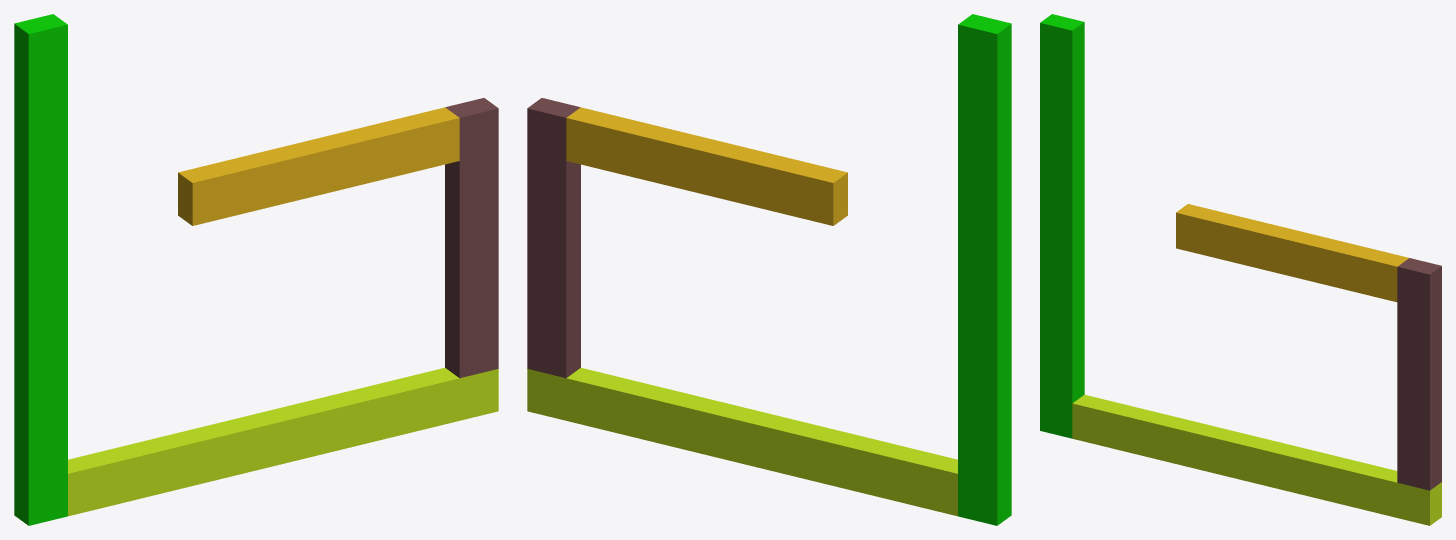
Rendered from tinker.obj.
The picture shows the model from 3 angles, left to right: view 1: azimuth 30°, elevation 25°; view 2: azimuth 150°, elevation 25°; view 3: azimuth 330°, elevation 25°; orthographic projection. The views are drawn at different scales.
Visible parts, largest first — view 1: group_0_448256, group_0_12904733, group_0_15317533, group_0_7752783; view 2: group_0_448256, group_0_12904733, group_0_15317533, group_0_7752783; view 3: group_0_448256, group_0_12904733, group_0_15317533, group_0_7752783.
Boxes of the visible parts, box(x1,y1,x2,y2) form: group_0_448256: box(14, 14, 67, 525); group_0_12904733: box(68, 368, 498, 516); group_0_15317533: box(178, 107, 459, 225); group_0_7752783: box(445, 98, 498, 378); group_0_448256: box(958, 14, 1011, 525); group_0_12904733: box(527, 368, 957, 516); group_0_15317533: box(566, 107, 847, 225); group_0_7752783: box(527, 98, 580, 378); group_0_448256: box(1040, 14, 1084, 438); group_0_12904733: box(1072, 394, 1441, 525); group_0_15317533: box(1176, 204, 1408, 302); group_0_7752783: box(1397, 258, 1441, 490).
Size of the model in its own units: 998 by 998 by 53.46.
